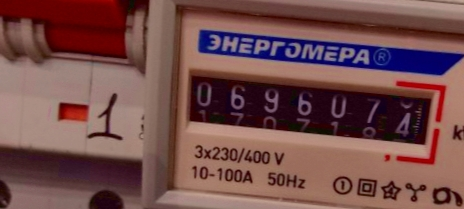0: (191, 80, 215, 110), (328, 91, 349, 122), (227, 84, 247, 111)
4: (392, 111, 412, 140)
6: (293, 88, 314, 119)
7: (361, 96, 382, 126)
9: (260, 86, 281, 116)
screen: (167, 55, 448, 167)
